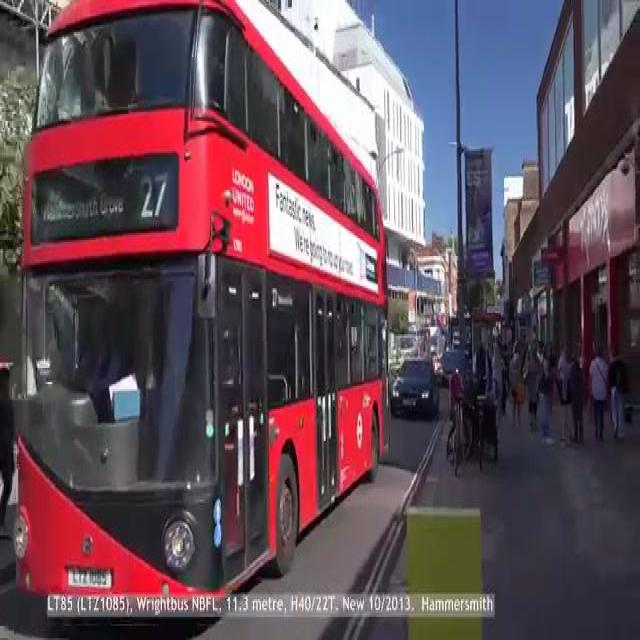motorcycle: (1, 0, 390, 606)
